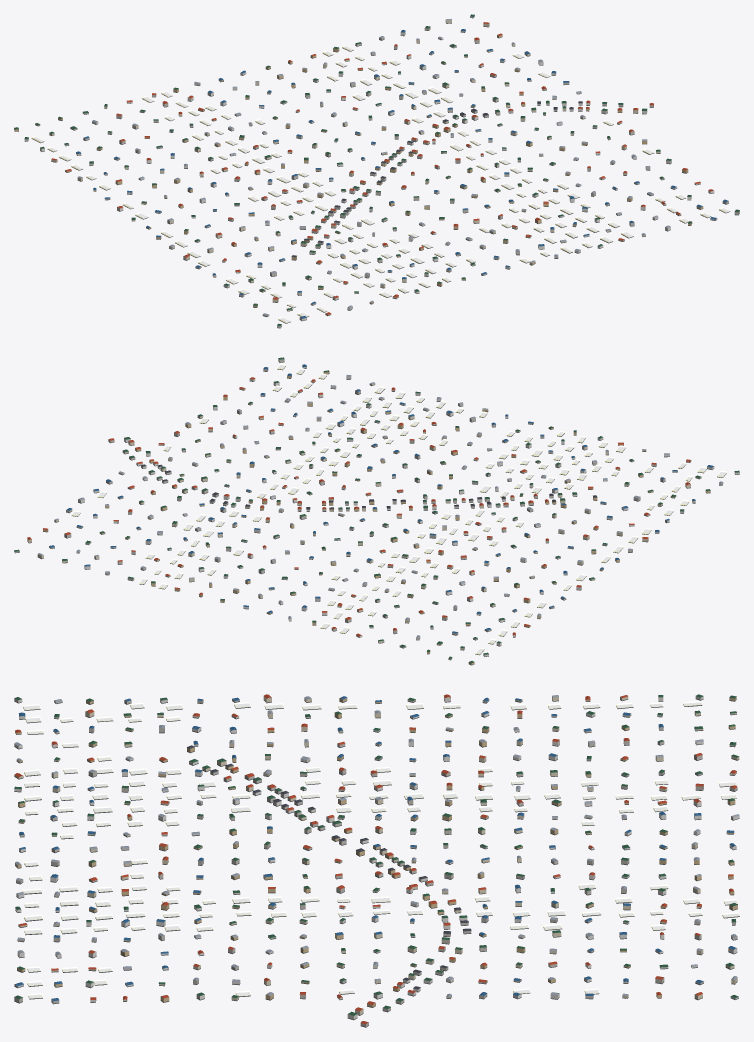
Rendered from buildings_T_W05_S01.glb.
3 views of the same model, one above another, from view 1: azimuth 30°, elevation 25°; view 2: azimuth 150°, elevation 25°; view 3: azimuth 270°, elevation 25° (orthographic). The views are drawn at different scales.
Parts seen in each view (by area): view 1: T_W05_S01_slope_seating_foundations, T_W05_S01_roofs_agri_greenhouse_arch, T_W05_S01_walls_wall_modern_warm_white, T_W05_S01_walls_wall_pastel_sand_gray, T_W05_S01_roofs_roof_pine_green_hip, T_W05_S01_walls_wall_french_ochre_villa, T_W05_S01_walls_wall_dalat_cream_stucco, T_W05_S01_roofs_roof_terracotta_gable, T_W05_S01_roofs_roof_highland_blue_gable, T_W05_S01_roofs_roof_zinc_silver_gable; view 2: T_W05_S01_slope_seating_foundations, T_W05_S01_roofs_agri_greenhouse_arch, T_W05_S01_walls_wall_modern_warm_white, T_W05_S01_walls_wall_pastel_sand_gray, T_W05_S01_roofs_roof_pine_green_hip, T_W05_S01_walls_wall_french_ochre_villa, T_W05_S01_walls_wall_dalat_cream_stucco, T_W05_S01_roofs_roof_terracotta_gable, T_W05_S01_roofs_roof_highland_blue_gable, T_W05_S01_roofs_roof_zinc_silver_gable; view 3: T_W05_S01_slope_seating_foundations, T_W05_S01_roofs_agri_greenhouse_arch, T_W05_S01_walls_wall_modern_warm_white, T_W05_S01_walls_wall_pastel_sand_gray, T_W05_S01_walls_wall_french_ochre_villa, T_W05_S01_roofs_roof_pine_green_hip, T_W05_S01_walls_wall_dalat_cream_stucco, T_W05_S01_roofs_roof_terracotta_gable, T_W05_S01_roofs_roof_highland_blue_gable, T_W05_S01_roofs_roof_zinc_silver_gable, T_W05_S01_roofs_roof_slate_French_villa_hip.
Boxes of the visible parts, <box> form: T_W05_S01_slope_seating_foundations: <box>14,16,739,328</box>; T_W05_S01_roofs_agri_greenhouse_arch: <box>31,45,730,323</box>; T_W05_S01_walls_wall_modern_warm_white: <box>24,15,717,327</box>; T_W05_S01_walls_wall_pastel_sand_gray: <box>82,30,739,316</box>; T_W05_S01_roofs_roof_pine_green_hip: <box>14,14,739,325</box>; T_W05_S01_walls_wall_french_ochre_villa: <box>14,35,703,315</box>; T_W05_S01_walls_wall_dalat_cream_stucco: <box>35,19,700,310</box>; T_W05_S01_roofs_roof_terracotta_gable: <box>51,22,713,314</box>; T_W05_S01_roofs_roof_highland_blue_gable: <box>76,29,728,318</box>; T_W05_S01_roofs_roof_zinc_silver_gable: <box>78,18,670,315</box>; T_W05_S01_slope_seating_foundations: <box>14,361,739,665</box>; T_W05_S01_roofs_agri_greenhouse_arch: <box>71,363,726,654</box>; T_W05_S01_walls_wall_modern_warm_white: <box>14,366,739,656</box>; T_W05_S01_walls_wall_pastel_sand_gray: <box>49,358,722,647</box>; T_W05_S01_roofs_roof_pine_green_hip: <box>14,357,739,663</box>; T_W05_S01_walls_wall_french_ochre_villa: <box>43,371,710,664</box>; T_W05_S01_walls_wall_dalat_cream_stucco: <box>27,380,701,659</box>; T_W05_S01_roofs_roof_terracotta_gable: <box>27,377,690,636</box>; T_W05_S01_roofs_roof_highland_blue_gable: <box>49,364,713,633</box>; T_W05_S01_roofs_roof_zinc_silver_gable: <box>38,374,723,637</box>; T_W05_S01_slope_seating_foundations: <box>14,698,739,1027</box>; T_W05_S01_roofs_agri_greenhouse_arch: <box>22,701,739,998</box>; T_W05_S01_walls_wall_modern_warm_white: <box>14,696,739,1019</box>; T_W05_S01_walls_wall_pastel_sand_gray: <box>14,699,737,1026</box>; T_W05_S01_walls_wall_french_ochre_villa: <box>15,697,737,1007</box>; T_W05_S01_roofs_roof_pine_green_hip: <box>14,694,739,1015</box>; T_W05_S01_walls_wall_dalat_cream_stucco: <box>14,696,739,1014</box>; T_W05_S01_roofs_roof_terracotta_gable: <box>14,694,736,1024</box>; T_W05_S01_roofs_roof_highland_blue_gable: <box>15,696,736,1001</box>; T_W05_S01_roofs_roof_zinc_silver_gable: <box>14,695,739,997</box>; T_W05_S01_roofs_roof_slate_French_villa_hip: <box>187,745,471,989</box>.
Bounding box in the file's own units: 1862 × 32 × 1712.
